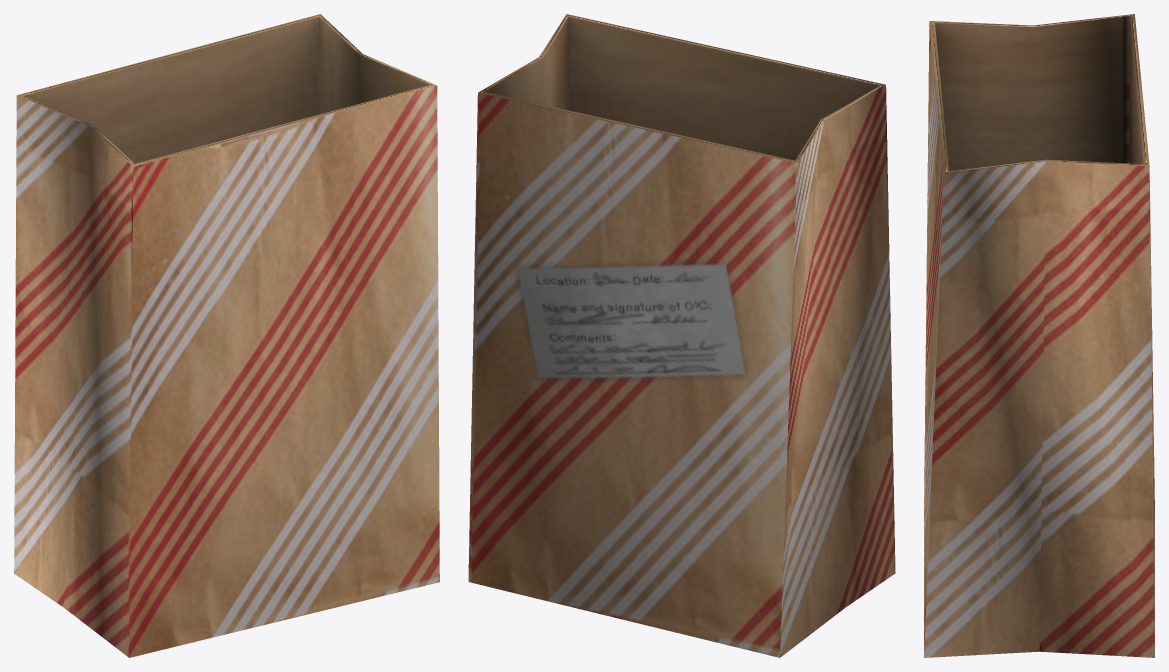
Rendered from Office_BurnBag_1.fbx.
3 renders of one model, left to right at view 1: azimuth 30°, elevation 25°; view 2: azimuth 150°, elevation 25°; view 3: azimuth 270°, elevation 25°, orthographic.
Visible parts, largest first — view 1: Office_BurnBag_1; view 2: Office_BurnBag_1; view 3: Office_BurnBag_1.
Boxes of the visible parts, left/top/right/bottom form: Office_BurnBag_1: left=14, top=14, right=439, bottom=657; Office_BurnBag_1: left=468, top=14, right=895, bottom=657; Office_BurnBag_1: left=924, top=14, right=1154, bottom=657.
Size of the model in its own units: 51.29 by 73.16 by 31.34.
